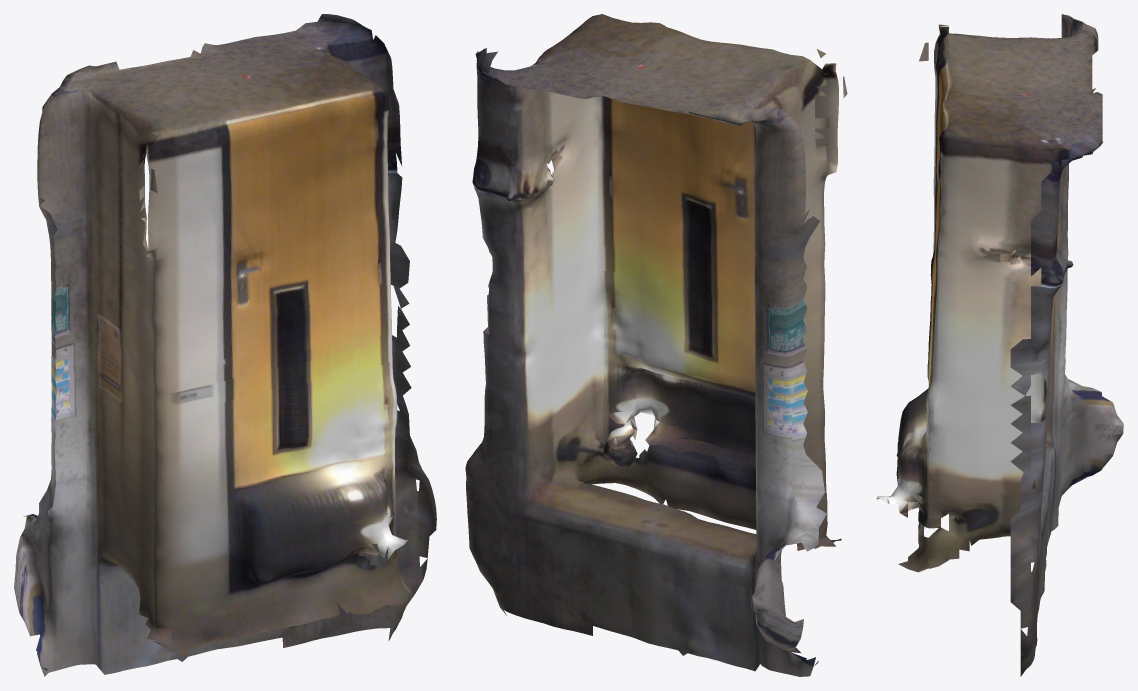
Rendered from RampEntryL.obj.
The picture shows the model from 3 angles, left to right: view 1: azimuth 30°, elevation 25°; view 2: azimuth 150°, elevation 25°; view 3: azimuth 270°, elevation 25°; orthographic projection. The views are drawn at different scales.
Size of the model in its own units: 2.41 by 3.71 by 1.55.
Materials: 1 (1 with a texture image).
